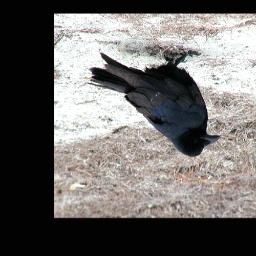Crow: (87, 49, 220, 158)
